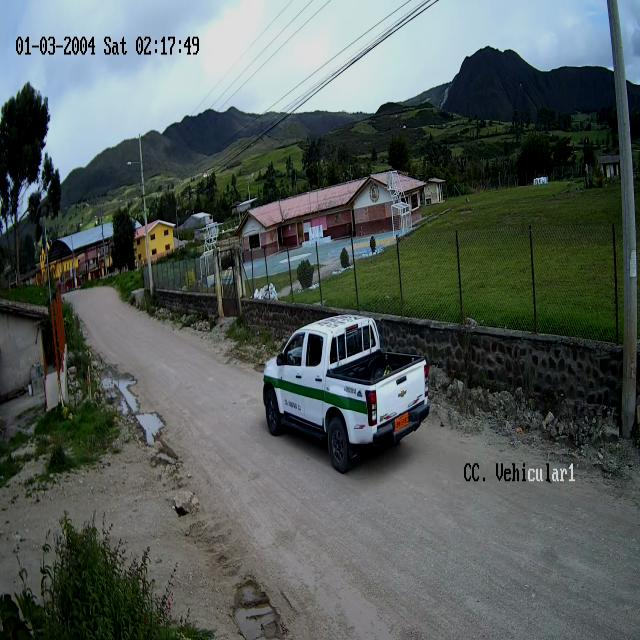CMT: (262, 322, 430, 473)
